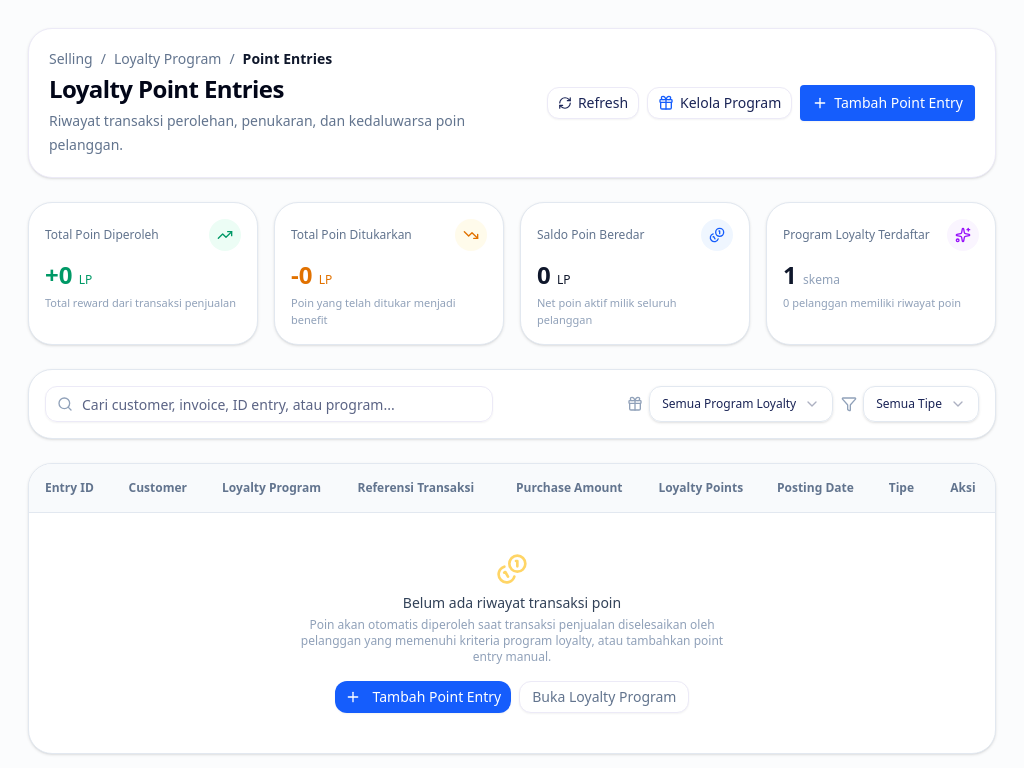
it: LoyaltyPointEntryListPage › supports manual point entry creation via dialog
The image size is (1024, 768).
Later steps or results of the test are not shown.
Expected: the text "Belum ada riwayat transaksi poin" is shown, x1=403 y1=593 x2=621 y2=612
# Click "Tambah Point Entry" button in header
Click the button "Tambah Point Entry" in the row of "Loyalty Point Entries": (888, 103) x1=800 y1=85 x2=975 y2=121
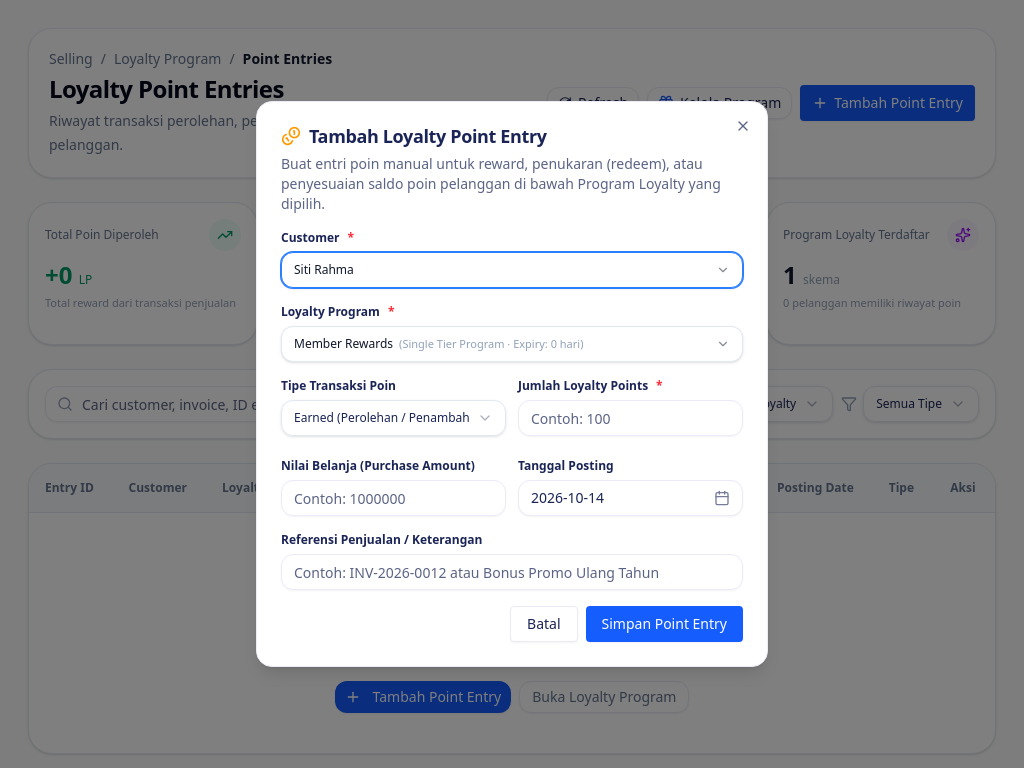
Now the heading "Tambah Loyalty Point Entry" is shown, box x1=281 y1=124 x2=547 y2=148
